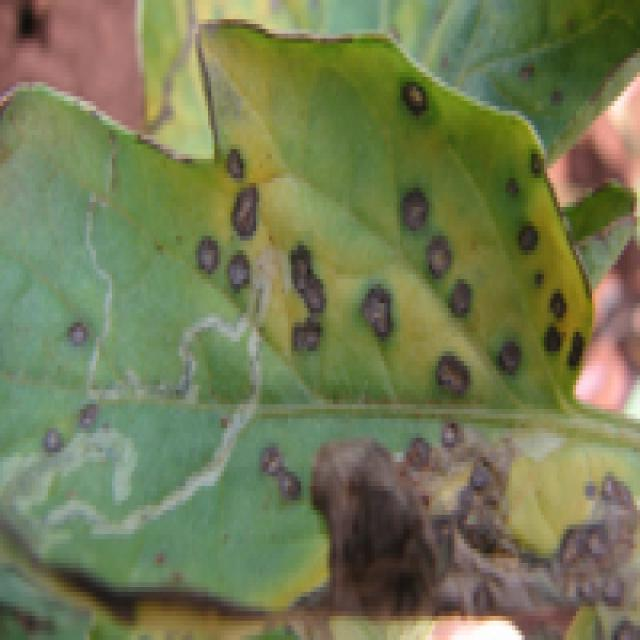leaf_spot: (0, 24, 637, 635)
